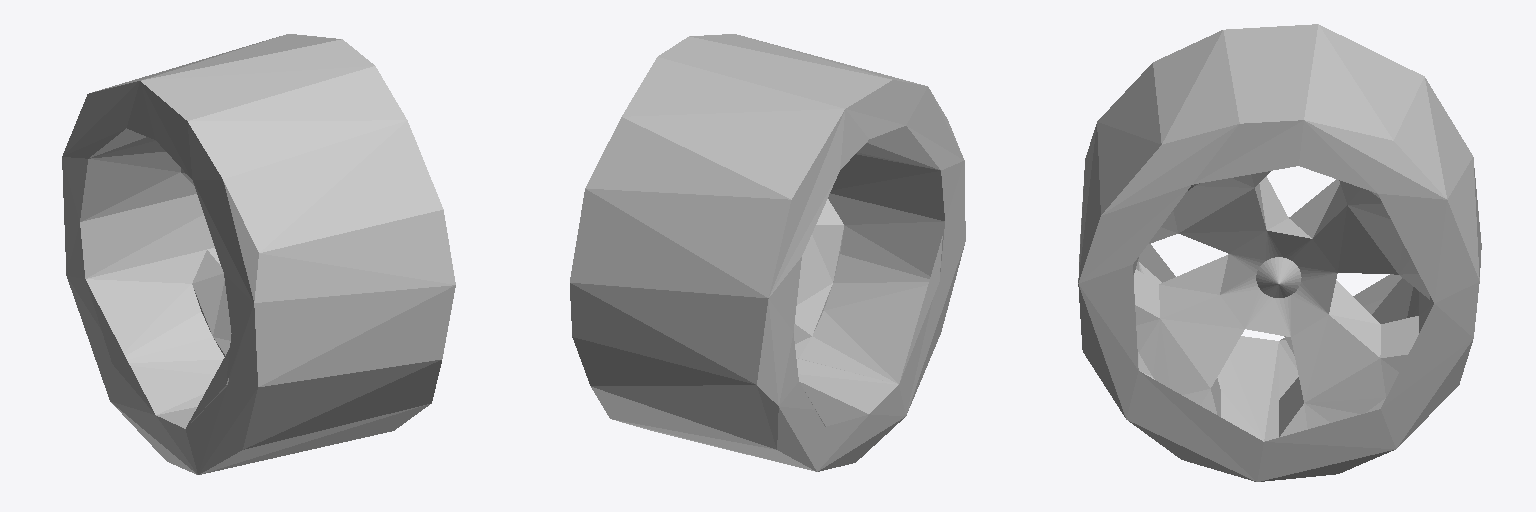
File: toreto_rear_wheel.obj
3 renders of one model, left to right at view 1: azimuth 30°, elevation 25°; view 2: azimuth 150°, elevation 25°; view 3: azimuth 270°, elevation 25°, orthographic.
Visible parts, largest first — view 1: Circle.008; view 2: Circle.008; view 3: Circle.008.
Part boxes in pixels (x1,y1,x2,y2): Circle.008: (62,34,455,474); Circle.008: (570,34,965,471); Circle.008: (1078,24,1481,481).
Size of the model in its own units: 0.4006 by 0.6897 by 0.6826.